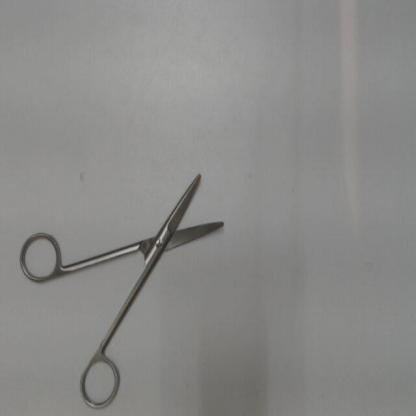Curved Mayo Scissors: (14, 163, 232, 412)
